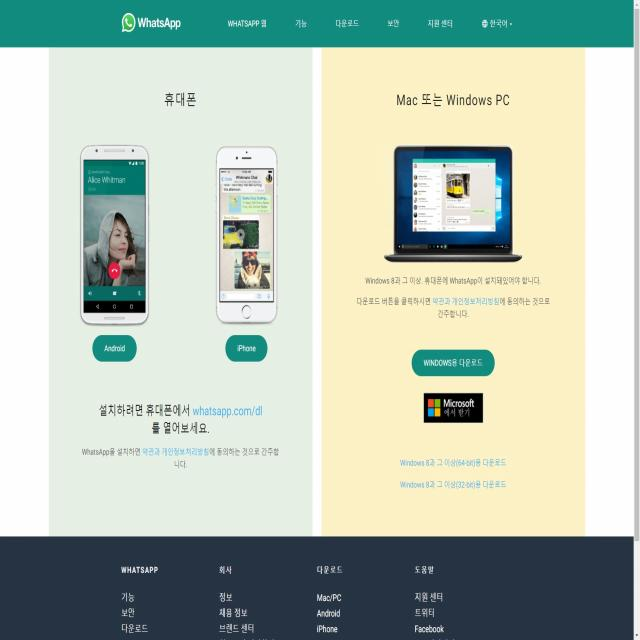menu-bar: (222, 9, 516, 33)
